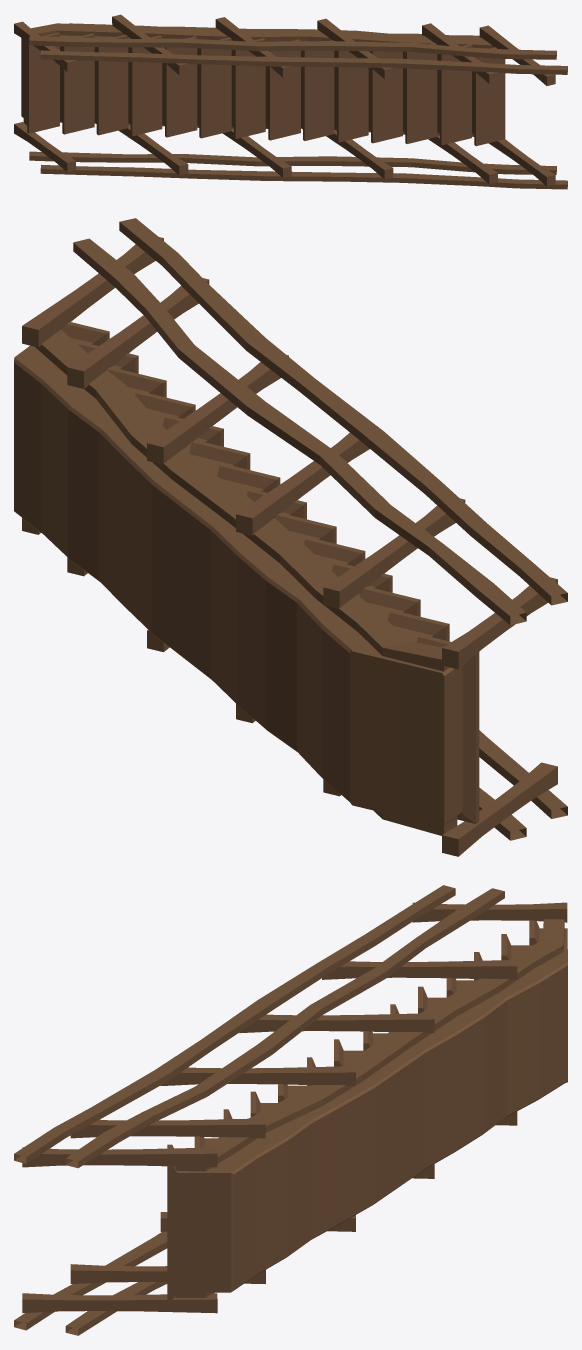
File: Stair_02.fbx
The picture shows the model from 3 angles, top to bottom: view 1: azimuth 30°, elevation 25°; view 2: azimuth 150°, elevation 25°; view 3: azimuth 270°, elevation 25°; orthographic projection. The views are drawn at different scales.
Visible parts, largest first — view 1: escaliers.plein; view 2: escaliers.plein; view 3: escaliers.plein.
Part boxes in pixels (x1,y1,x2,y2): escaliers.plein: [14, 14, 567, 189]; escaliers.plein: [14, 218, 567, 856]; escaliers.plein: [14, 885, 567, 1335].
Bounding box in the file's own units: 425 × 125 × 359.
